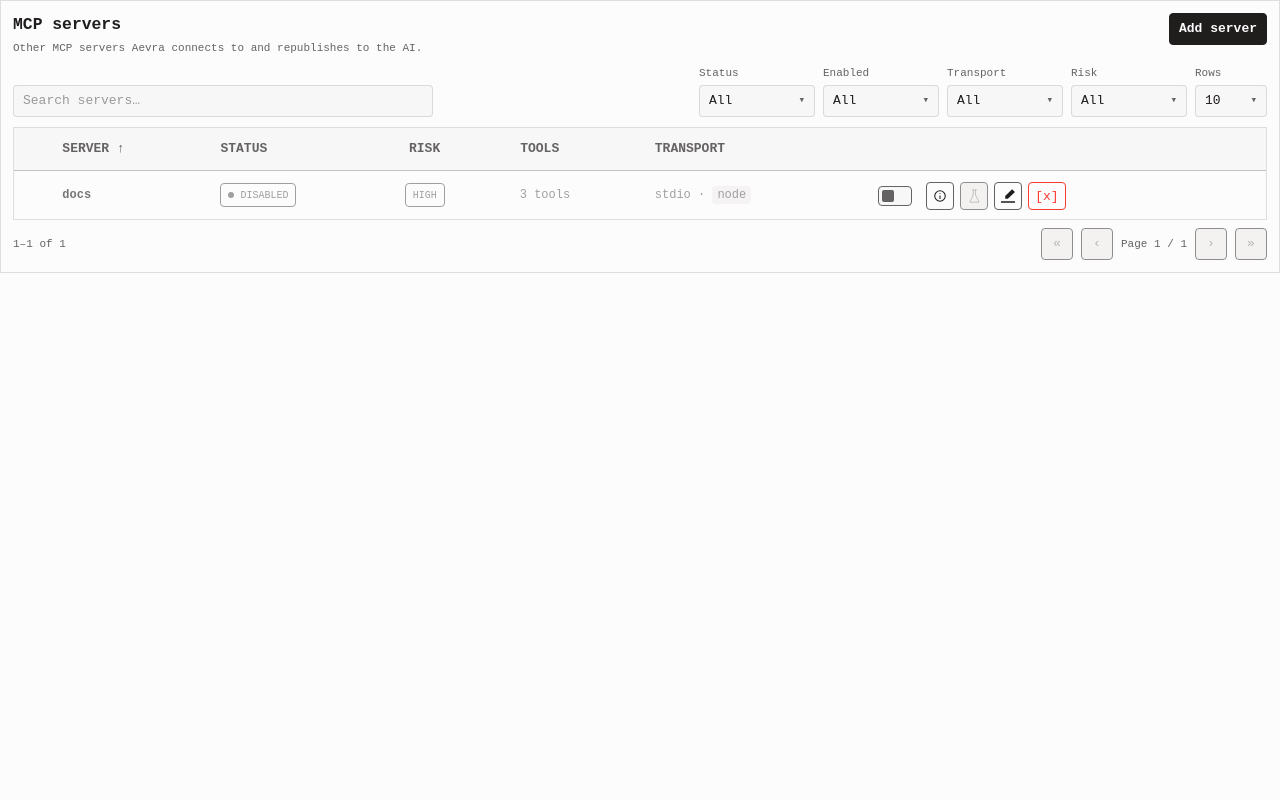
Scenario: opens documentation even when a server has no advisory flags
Click the button named "Detail for docs" at (940, 196), box [926, 182, 954, 210]
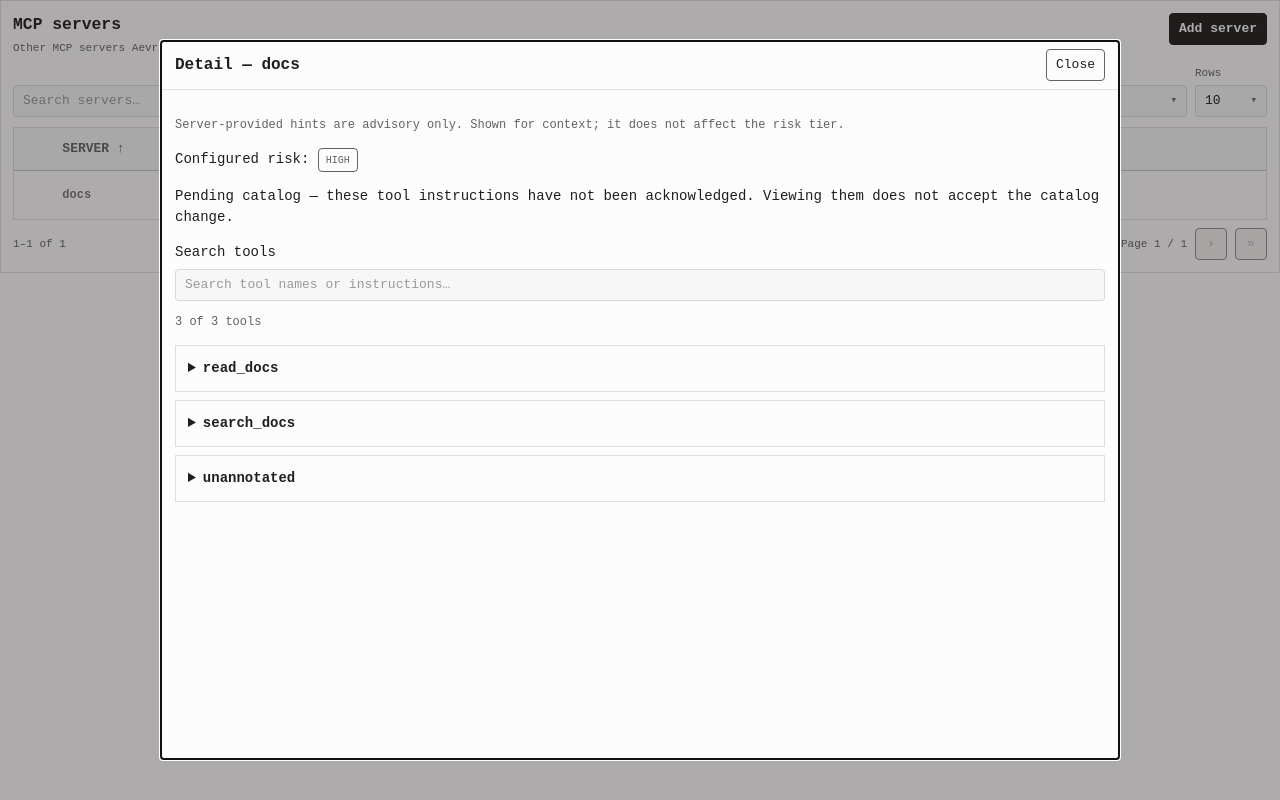
expect the dialog "Detail — docs" shows "Pending catalog": met, box [175, 188, 1099, 225]
Click the heading "read_docs" at (241, 368), box [203, 360, 278, 376]
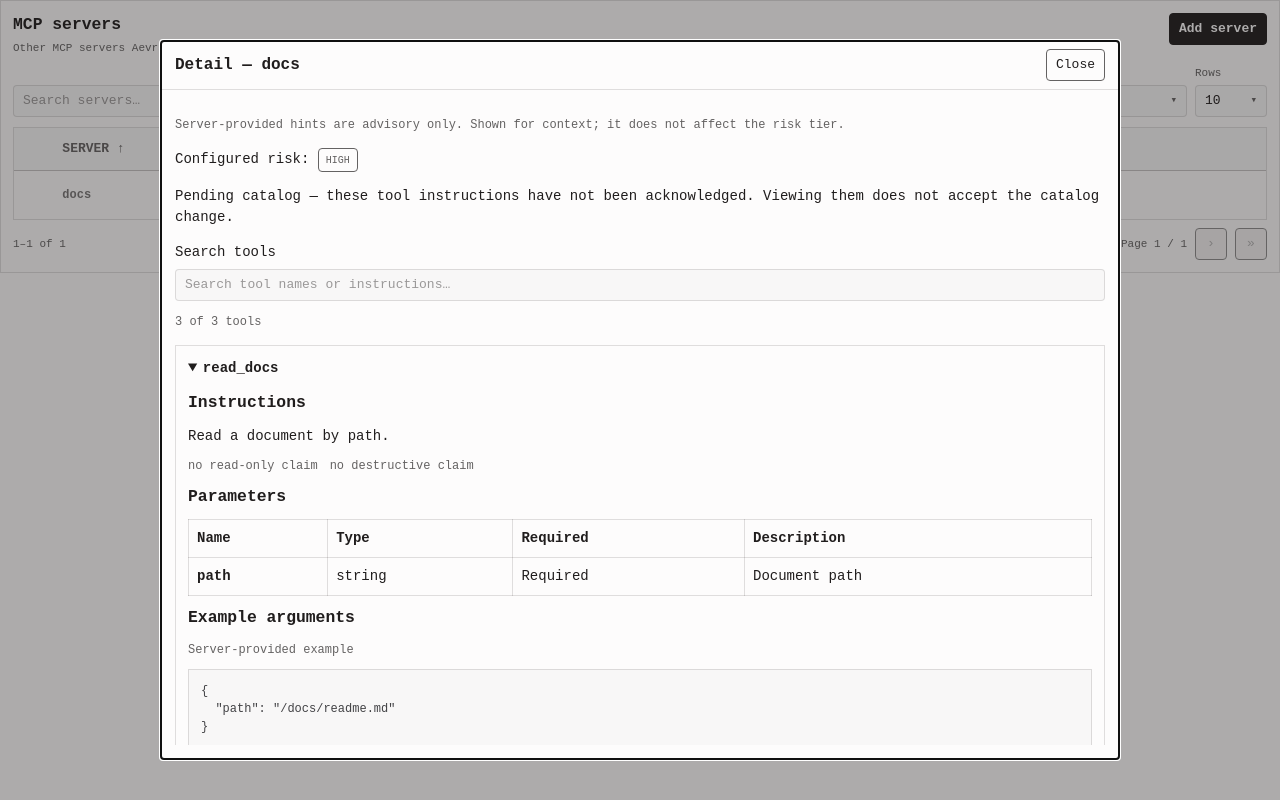
expect the text "Read a document by path." is shown: met, box [188, 428, 390, 444]
expect the text "Document path" is shown: met, box [744, 558, 1092, 596]
expect the text named "Example arguments for read_docs" shows "/docs/readme.md": met, box [201, 684, 395, 734]
